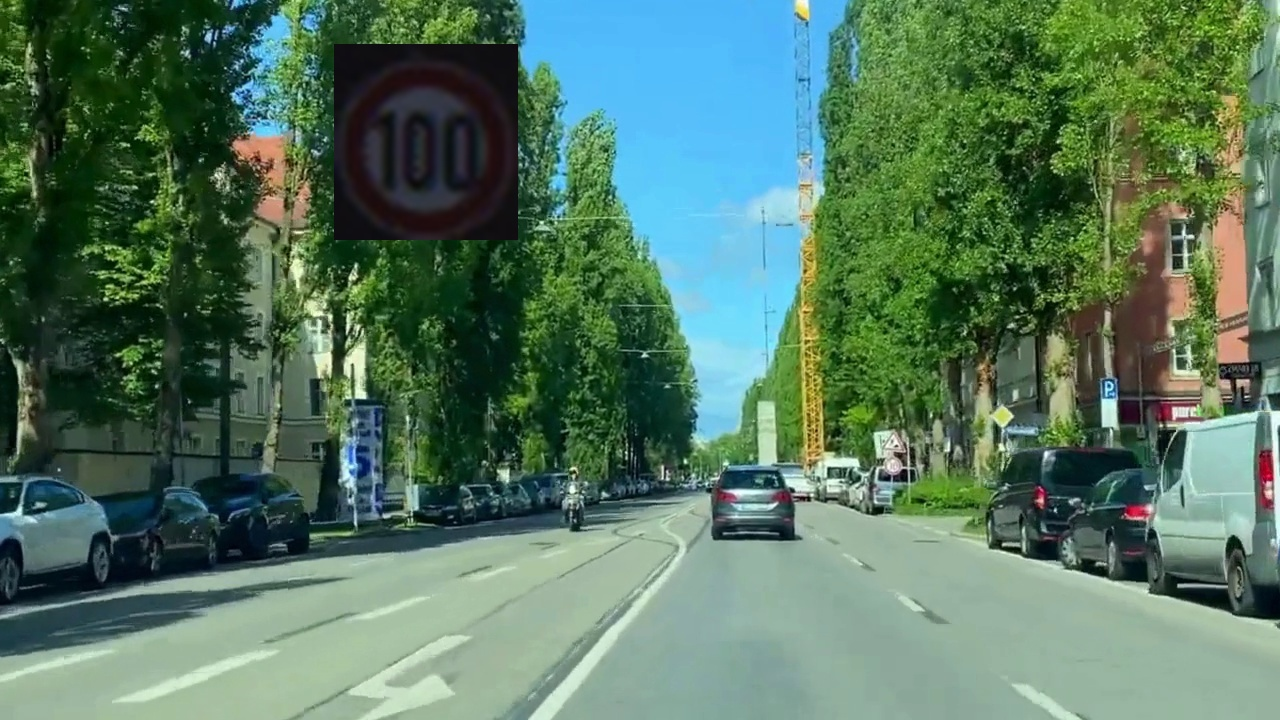Speed 100: (334, 44, 518, 240)
